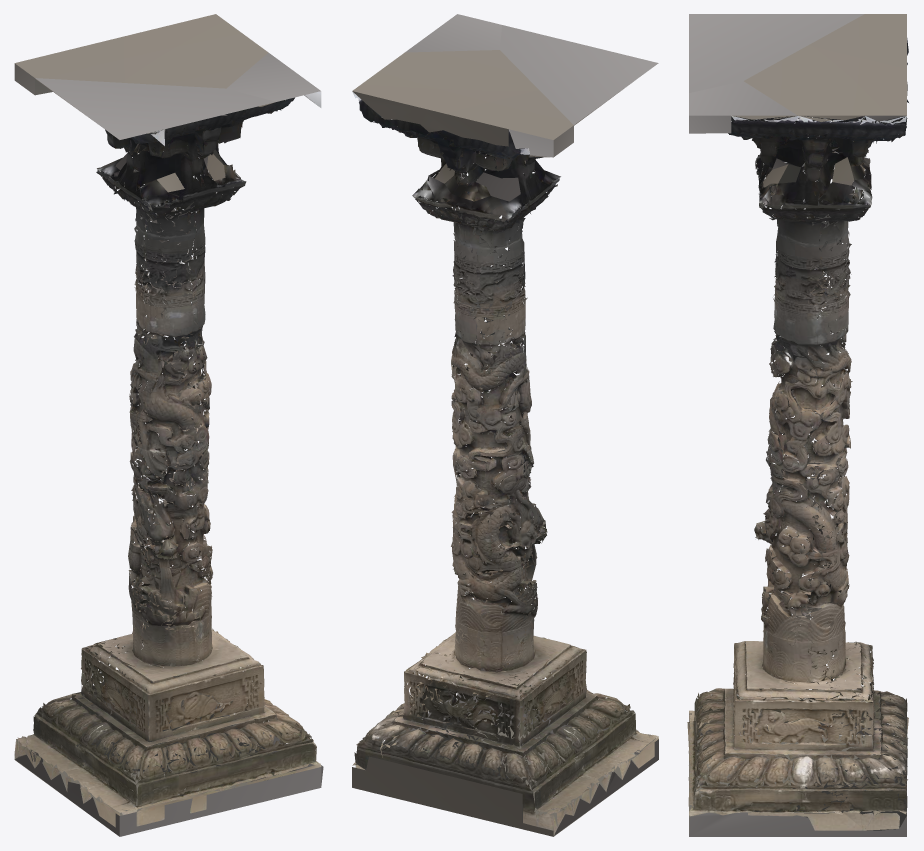
File: dragonpillar.glb
3 renders of one model, left to right at view 1: azimuth 30°, elevation 25°; view 2: azimuth 150°, elevation 25°; view 3: azimuth 270°, elevation 25°, orthographic. The views are drawn at different scales.
Visible parts, largest first — view 1: Object_2; view 2: Object_2; view 3: Object_2.
Part boxes in pixels (x1,y1,x2,y2): Object_2: (14,14,323,836); Object_2: (352,14,658,836); Object_2: (687,14,908,836).
Size of the model in its own units: 14.67 by 46.86 by 13.08.
Materials: 1 (1 with a texture image).
